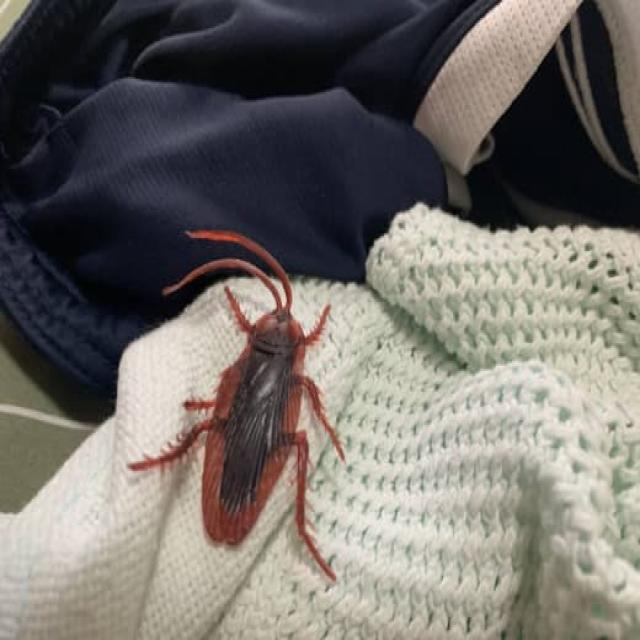Cockroach: (129, 223, 347, 640)
